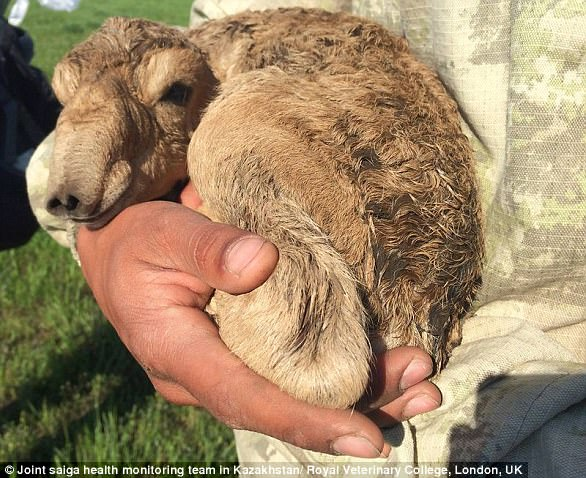saiga: (45, 15, 483, 403)
